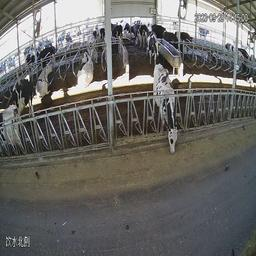cow: (150, 63, 186, 160), (12, 67, 38, 130), (0, 104, 23, 167), (35, 62, 55, 105), (77, 51, 94, 92), (35, 44, 60, 69), (171, 26, 195, 49), (240, 64, 255, 94), (85, 37, 101, 65), (162, 28, 179, 54), (132, 19, 145, 51), (23, 51, 38, 75), (144, 23, 155, 55), (110, 20, 123, 46), (92, 25, 107, 45), (224, 38, 234, 56)
